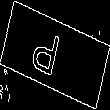P_S: (37, 25, 73, 85)
